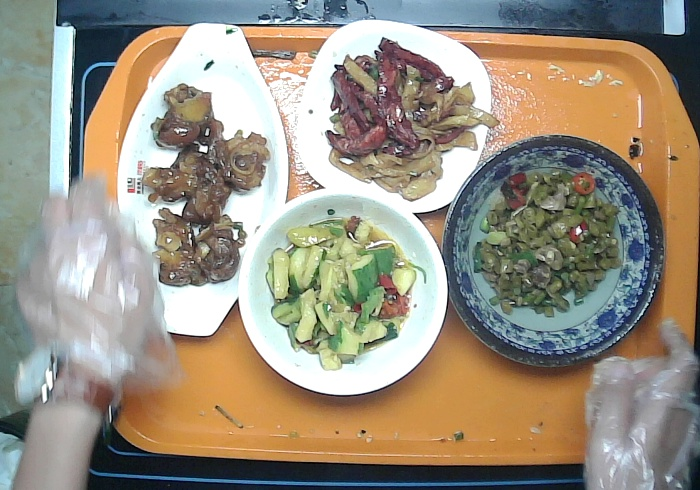ZNLD-Qing_Hua_Wan: (442, 132, 665, 371)
ZNLD-Si_Fang_Wan: (296, 17, 493, 213)
ZNLD-Tang_Wan: (234, 188, 449, 401)
ZNLD-Yu_Pan: (113, 19, 289, 340)
